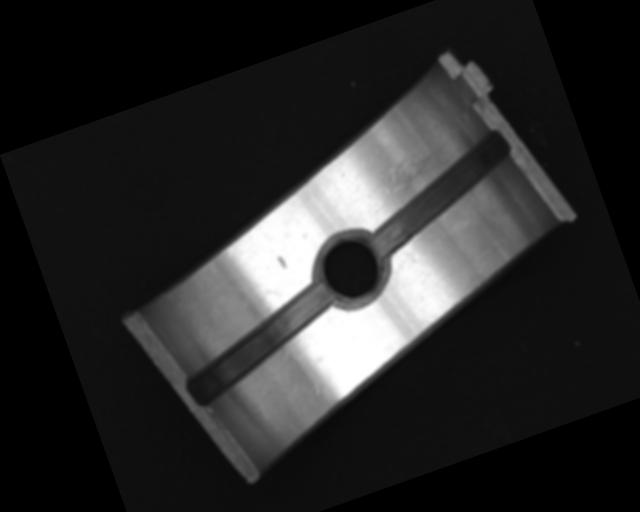bruise: (275, 252, 288, 270)
gap: (350, 127, 530, 260), (171, 281, 350, 406)
hole: (305, 225, 397, 315)
scratch: (362, 141, 462, 215)
